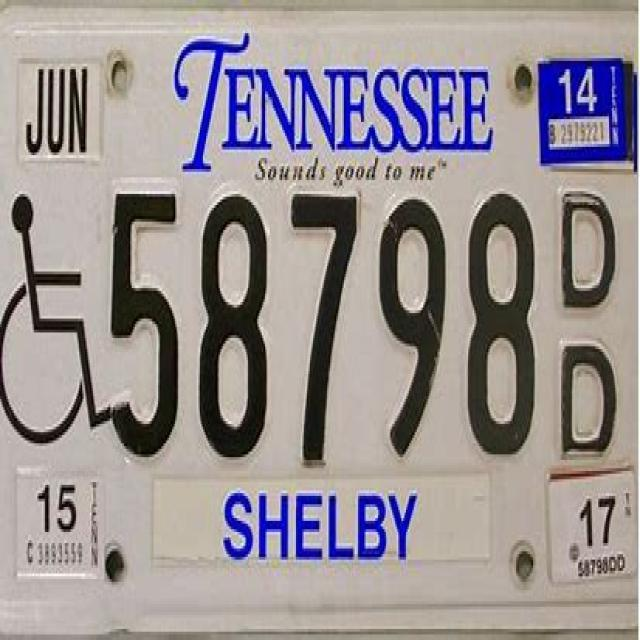symbol_of_access: (0, 186, 110, 452)
